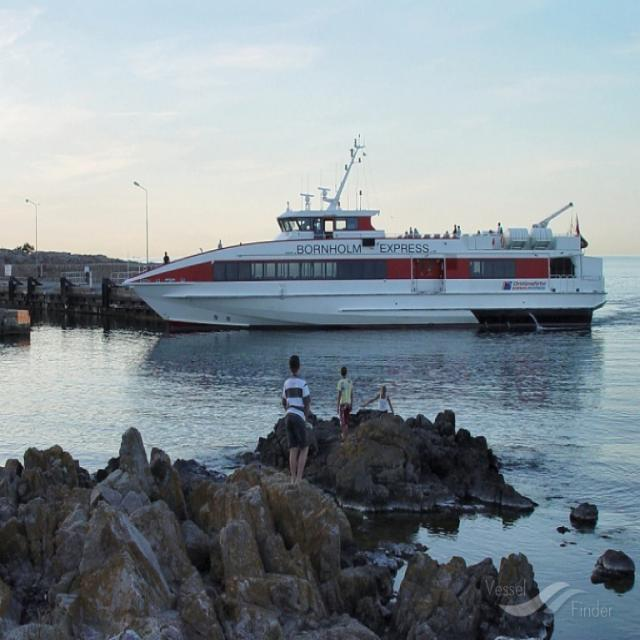Passenger Ship: (123, 141, 608, 326)
